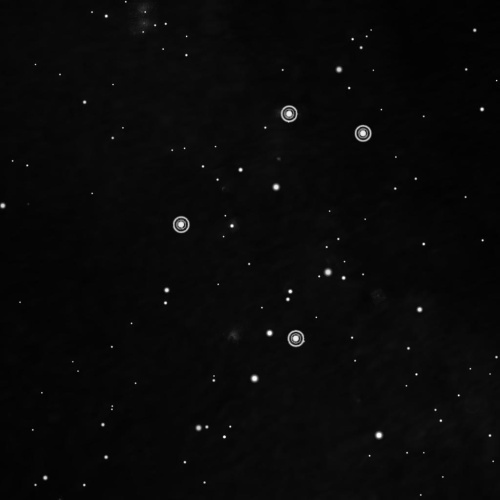coma_berenices: (163, 95, 380, 356)
